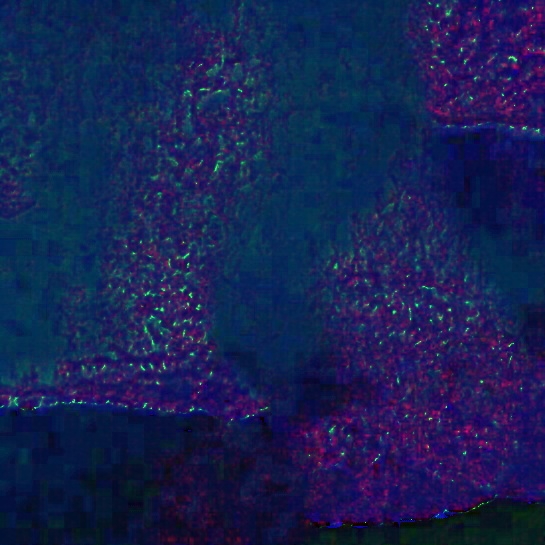rip_current: (189, 30, 384, 436)
